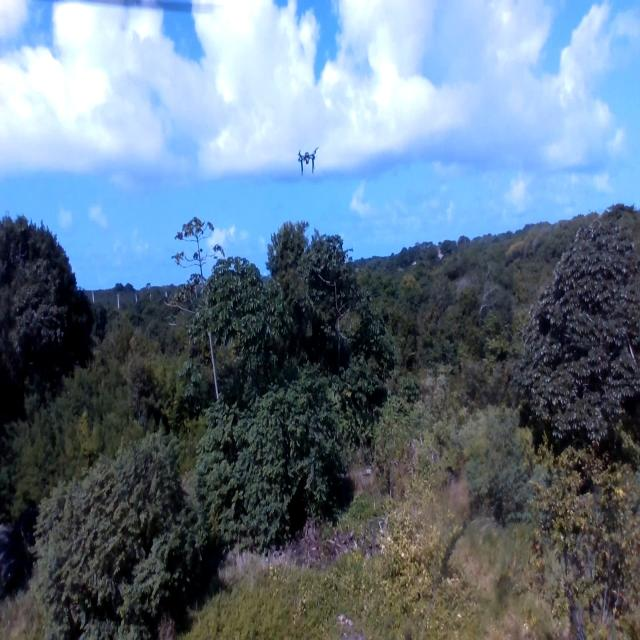-uav-: (290, 139, 325, 185)
